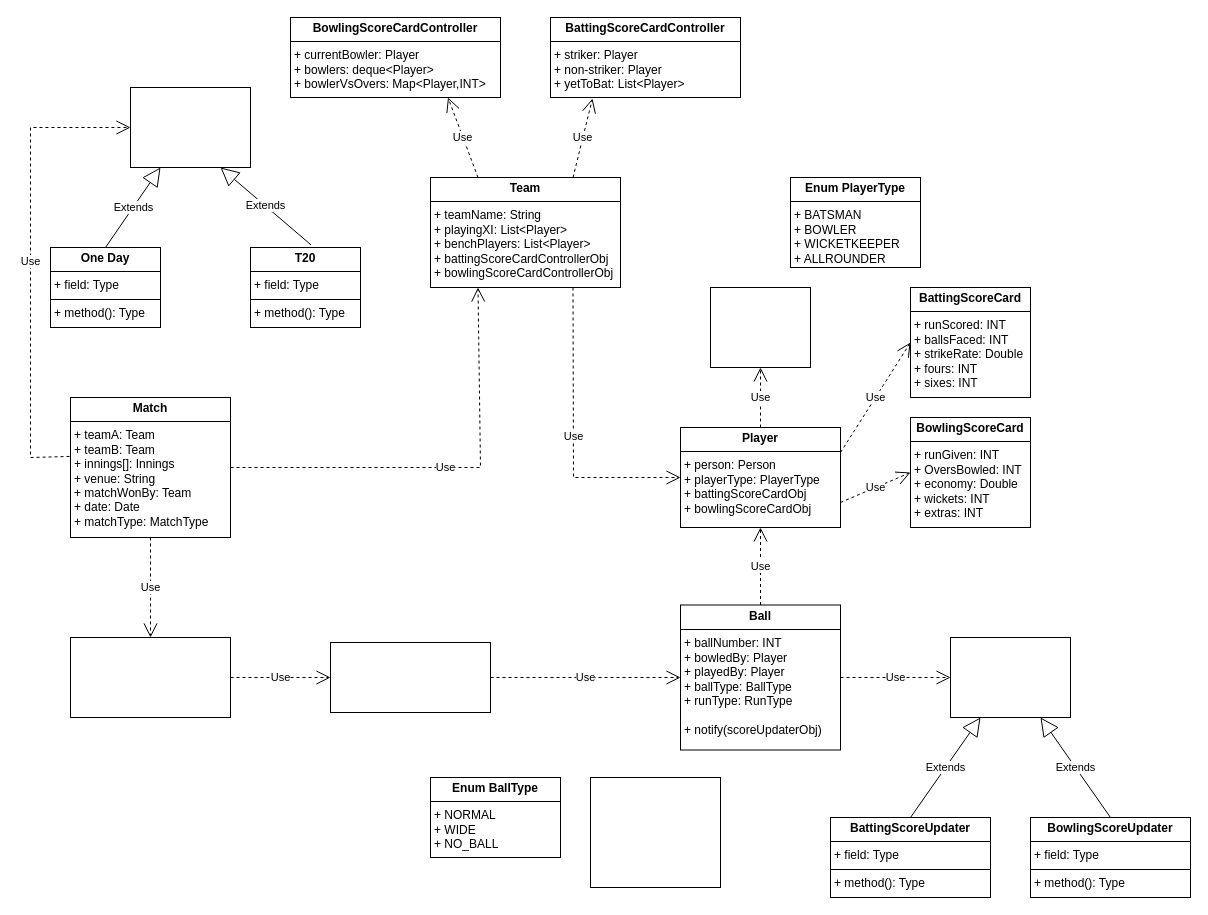
The diagram is 1208 pixels wide and 915 high, and some of its shapes have lost their labels. Here are the shapes that lost their labels. From the top down, the centre of each, then its label:
At point 190,127: "<<Interface>> MatchType + totalOvers() + oversPerBowler()".
At point 760,327: "Person + name: String + age: INT + city: String".
At point 150,677: "Innings + battingTeam: Team + bowlingTeam: Team + overs: List<Over>".
At point 410,677: "Over + overNumber: INT + balls: List<Ball>".
At point 1010,677: "<<Interface>> ScoreUpdater + update(Ball)".
At point 655,832: "Enum RunType + ONE + TWO + FOUR + SIX + WIDE_RUN".
